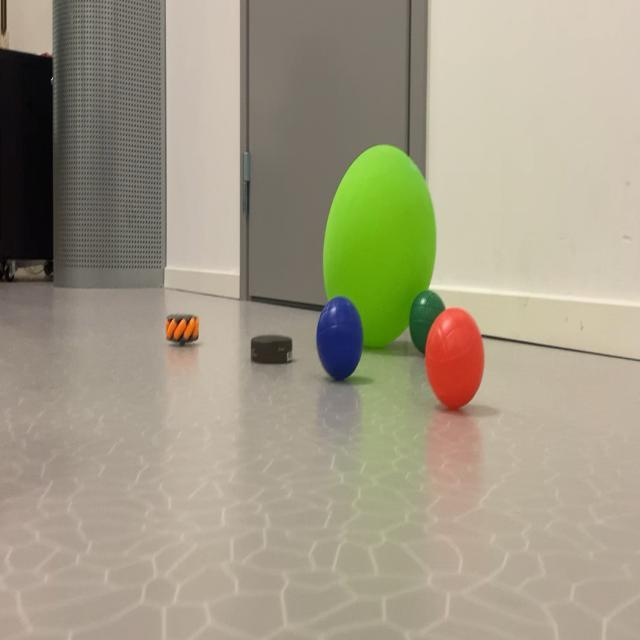blue ball: (319, 310, 367, 387)
green ball: (411, 295, 443, 312)
red ball: (424, 332, 488, 414)
